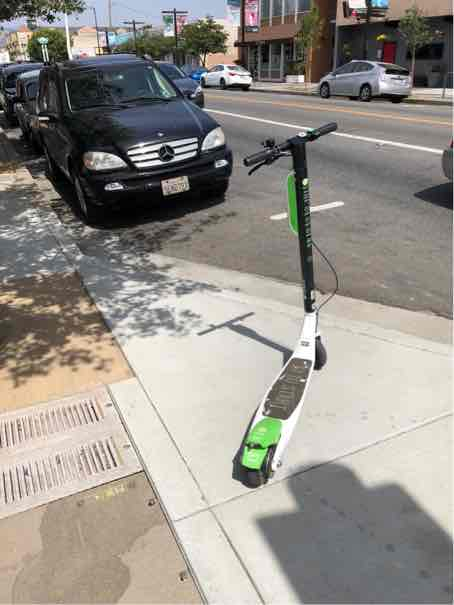scooter: (219, 123, 354, 498)
